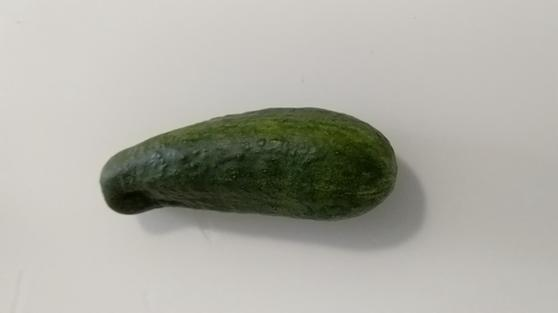cucumber: (96, 99, 397, 222)
